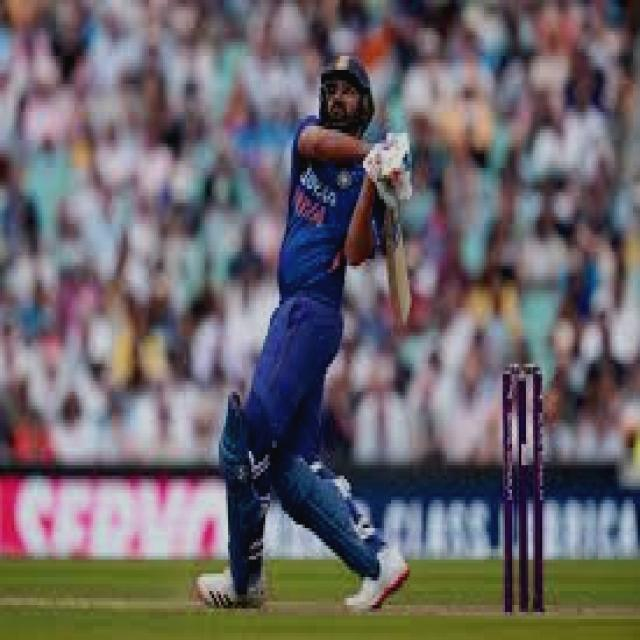toe: (389, 290, 418, 326)
